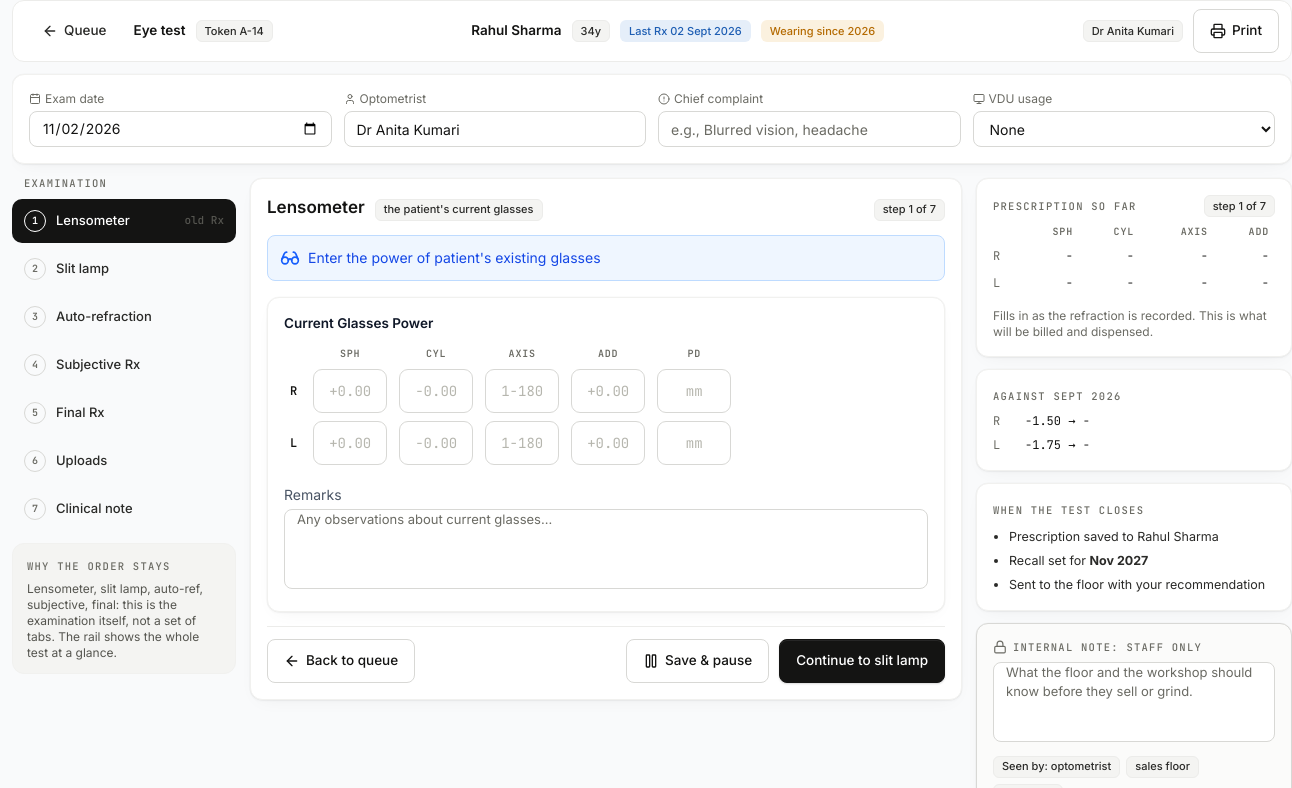
Save & pause › a fresh test seeds the slit lamp with its "Normal" defaults, not blanks
Expected: the button "1 Lensometer old Rx" is shown, top-left (12, 198), bottom-right (236, 242)
Click the button "2 Slit lamp": (124, 268) top-left (12, 246), bottom-right (236, 290)
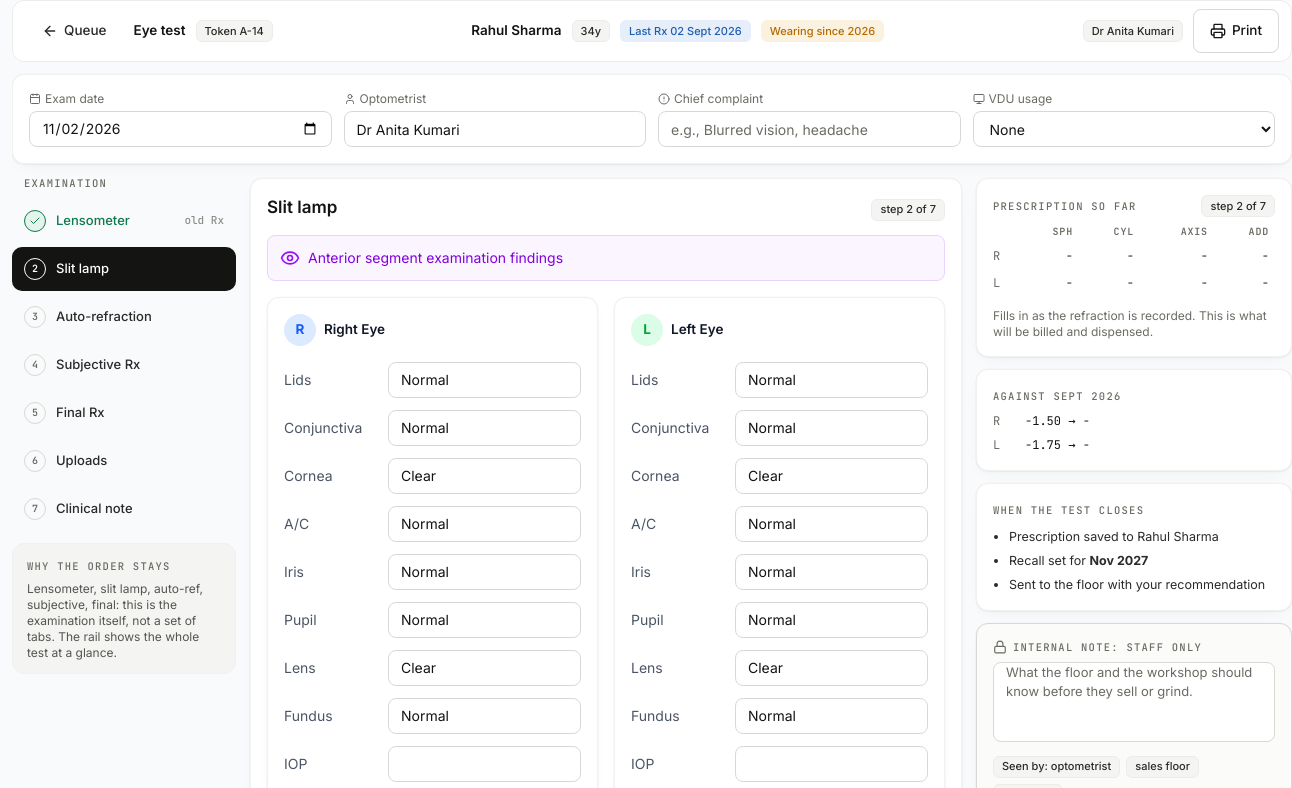
Now the 1st field showing "Normal" is shown, box top-left (388, 362), bottom-right (581, 398)
